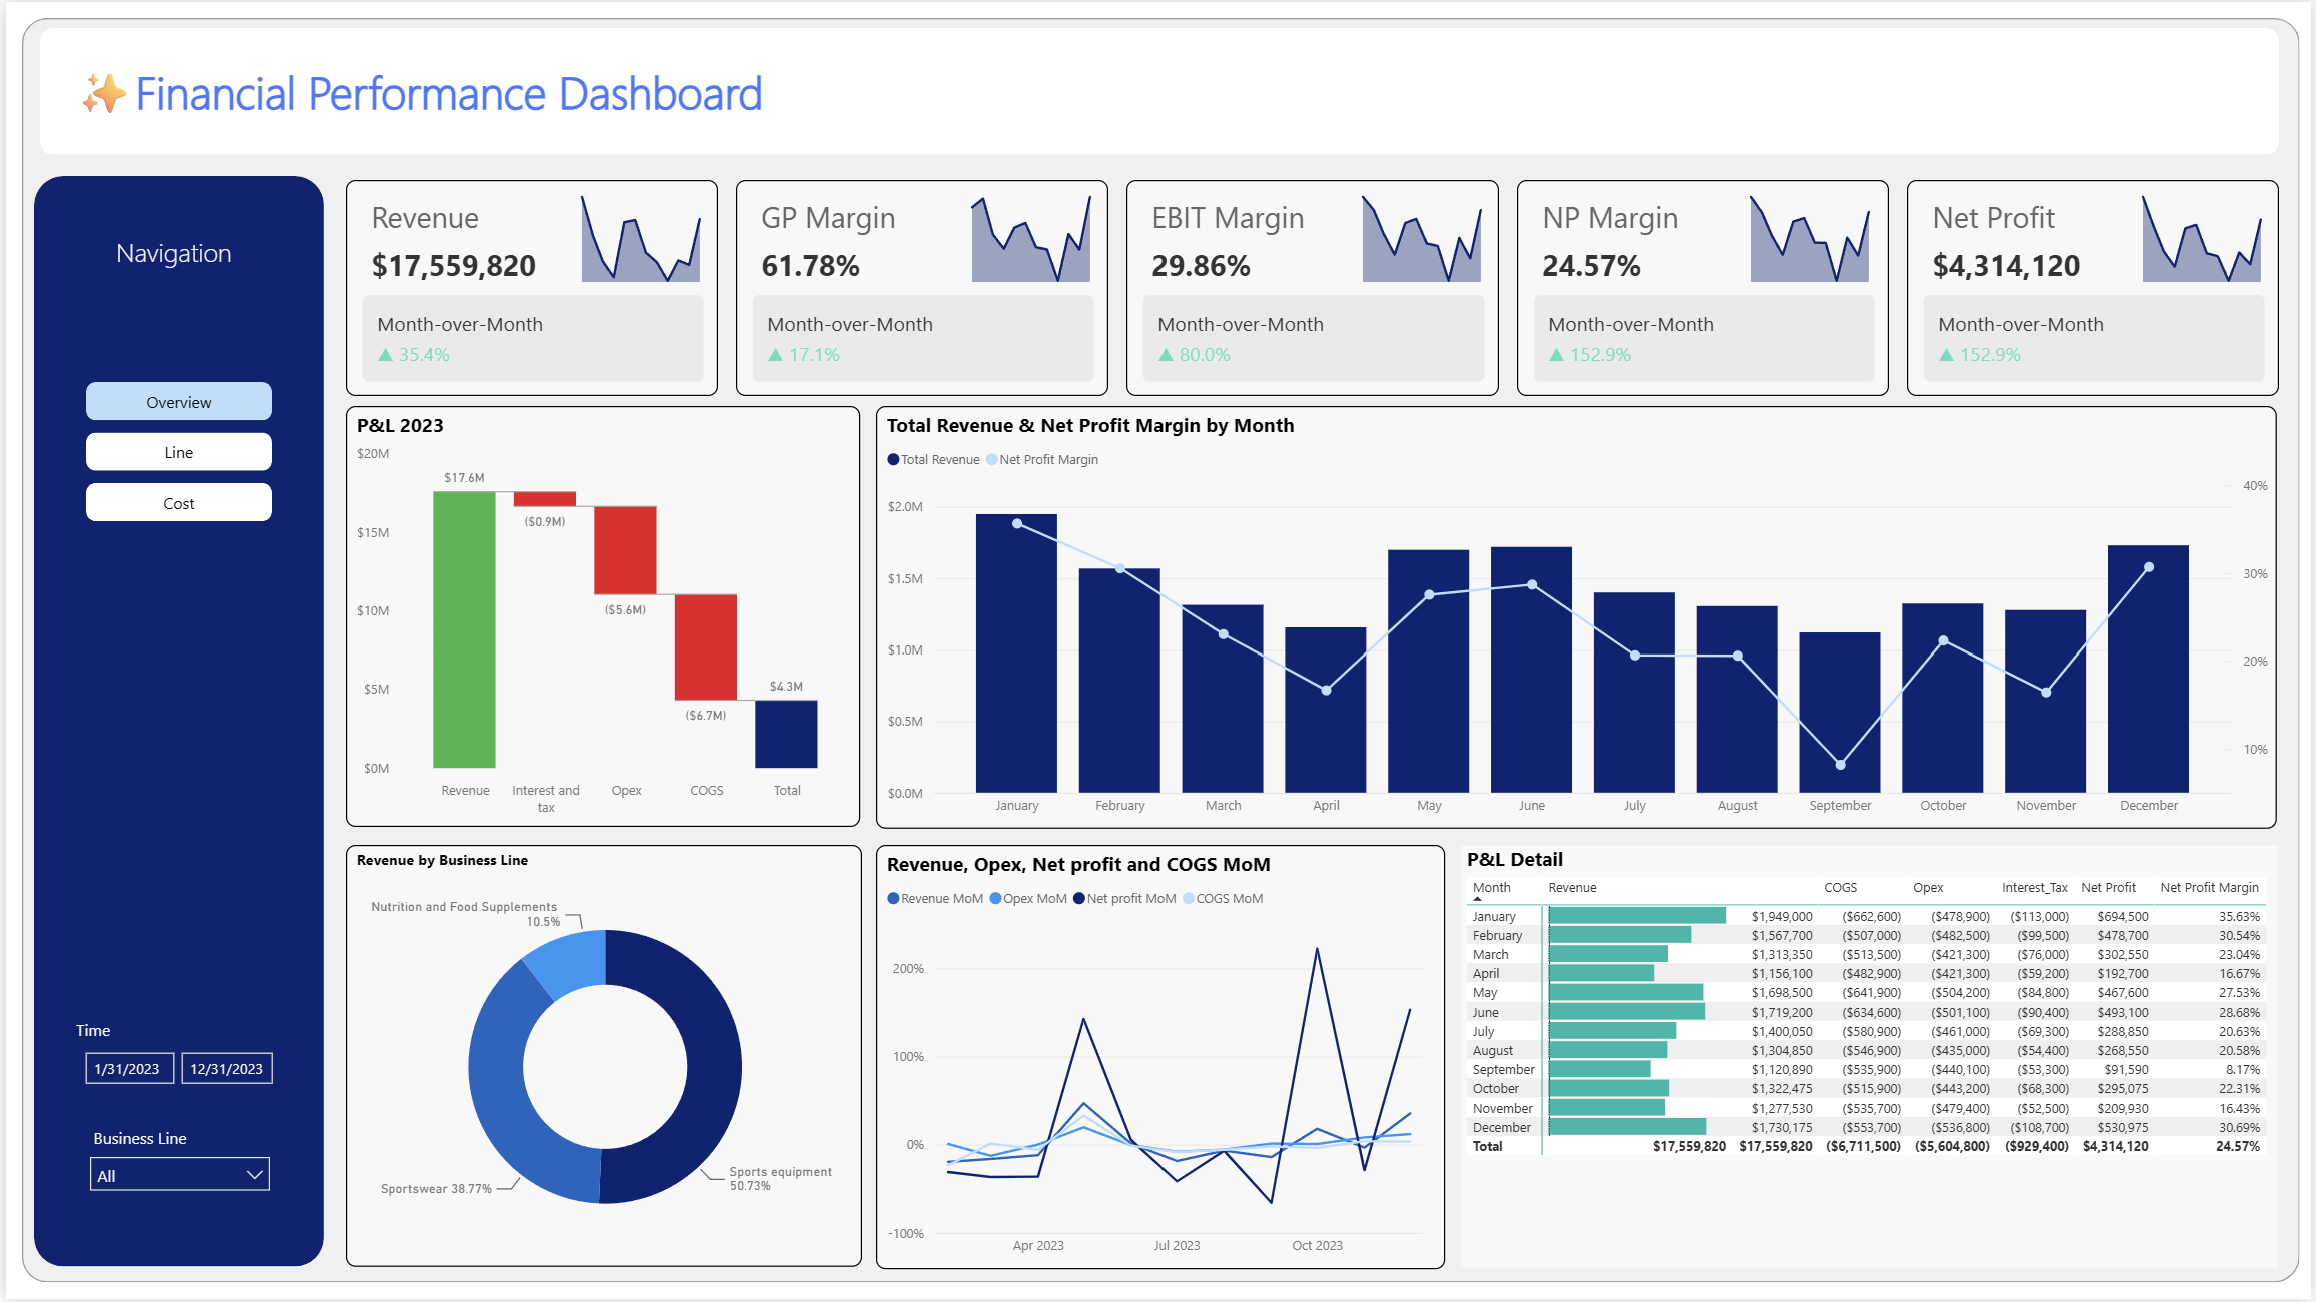

The dashboard page shown, as its layout file describes it:
{"tool":"powerbi","page":{"name":"Overview","canvas":[1920,1080],"ordinal":0},"visuals":[{"type":"cardVisual","fields":{"Data":["*Measure.Total Revenue"]},"box":[282.9,148.9,310,180],"z":0,"group":"g1"},{"type":"shape","box":[72.7,169.3,143.6,27.9],"z":0},{"type":"shape","box":[12.8,14,1897.2,1052.8],"z":1000},{"type":"cardVisual","fields":{"Data":["*Measure.Net Profit"]},"box":[1582.5,148.9,310,180],"z":1000,"group":"g1"},{"type":"cardVisual","fields":{"Data":["*Measure.Gross Profit Margin"]},"box":[607.8,148.9,310,180],"z":2000,"group":"g1"},{"type":"shape","box":[72.7,220,143.6,29.3],"z":2000},{"type":"shape","box":[22.7,144.5,241.7,907.9],"z":3000,"group":"g3"},{"type":"cardVisual","fields":{"Data":["*Measure.EBIT Margin"]},"box":[932.7,148.9,310,180],"z":3000,"group":"g1"},{"type":"shape","box":[27.9,22.1,1865,105.7],"z":4000},{"type":"cardVisual","fields":{"Data":["*Measure.Net Profit Margin"]},"box":[1257.6,148.9,310,180],"z":4000,"group":"g1"},{"type":"textbox","box":[85.7,187.2,115.7,42.9],"z":5000,"group":"g2"},{"type":"textbox","box":[51.4,43.6,625,62.9],"z":6000},{"type":"waterfallChart","title":"P&L 2023","fields":{"Category":["Group.Group"],"Y":["Sum(Fact.Amount)"]},"box":[282.9,337.1,428.6,350],"z":7000},{"type":"group","id":"g1","title":"Group 2","box":[282.9,148.9,1609.6,180],"z":8000},{"type":"lineChart","title":"Revenue, Opex, Net profit and COGS MoM ","fields":{"Category":["Calendar.StartOfMonth"],"Y":["*Measure.Revenue MoM","*Measure.Opex MoM","*Measure.Net profit MoM","*Measure.COGS MoM"]},"box":[725,701.7,473.3,353.3],"z":9000},{"type":"donutChart","title":"Revenue by Business Line","fields":{"Category":["Business Line.Business Line"],"Y":["*Measure.Total Revenue"]},"box":[283.3,701.7,430,351.7],"z":10000},{"type":"lineClusteredColumnComboChart","title":"Total Revenue & Net Profit Margin by Month","fields":{"Category":["Calendar.StartOfMonth.Variation.Date Hierarchy.Month"],"Y":["*Measure.Total Revenue"],"Y2":["*Measure.Net Profit Margin"]},"box":[725,336.7,1166.7,351.7],"z":11000},{"type":"lineChart","fields":{"Category":["dim_calendar.StartOfMonth"],"Y":["*Measure.Total Revenue"]},"box":[465.5,149.1,128.2,90],"z":12000},{"type":"lineChart","fields":{"Category":["dim_calendar.StartOfMonth"],"Y":["*Measure.Gross Profit Margin"]},"box":[790,149.1,128.2,90],"z":13000},{"type":"lineChart","fields":{"Category":["dim_calendar.StartOfMonth"],"Y":["*Measure.EBIT Margin"]},"box":[1114.5,149.1,128.2,90],"z":14000},{"type":"lineChart","fields":{"Category":["dim_calendar.StartOfMonth"],"Y":["*Measure.Net Profit Margin"]},"box":[1439.1,149.1,128.2,90],"z":15000},{"type":"lineChart","fields":{"Category":["dim_calendar.StartOfMonth"],"Y":["*Measure.Net Profit"]},"box":[1764.5,149.1,128.2,90],"z":16000},{"type":"pivotTable","title":"P&L Detail ","fields":{"Rows":["dim_calendar.Date.Variation.Date Hierarchy.Month"],"Values":["*Measure.Total Revenue","*Measure.Total Revenue_1","*Measure.Total COGS","*Measure.Total Opex","*Measure.Total Interest_Tax","*Measure.Net Profit","*Measure.Net Profit Margin"]},"box":[1212.2,702.2,681.1,352.2],"z":17000},{"type":"pageNavigator","box":[66.1,315.1,155,117.5],"z":18000,"group":"g2"},{"type":"slicer","title":"Time","fields":{"Values":["dim_calendar.Date"]},"box":[52.3,845.1,182.5,66.2],"z":19000,"group":"g2"},{"type":"slicer","fields":{"Values":["Business Line.Business Line"]},"box":[58.5,930.9,170,66.7],"z":20000,"group":"g2"},{"type":"group","id":"g2","title":"Group 1","box":[52.3,187.2,182.5,810.4],"z":20001,"group":"g3"},{"type":"group","id":"g3","title":"Group 3","box":[22.7,144.5,241.7,907.9],"z":20002}]}

Visuals, with their boxes in screenshot pixels (x1, y1, x2, y2), scaled from the page's 1920x1080 canvas onto the 2316x1302 screenshot:
cardVisual - *Measure.Total Revenue: crop(341, 180, 715, 397)
shape: crop(88, 204, 261, 238)
shape: crop(15, 17, 2304, 1286)
cardVisual - *Measure.Net Profit: crop(1909, 180, 2283, 397)
cardVisual - *Measure.Gross Profit Margin: crop(733, 180, 1107, 397)
shape: crop(88, 265, 261, 301)
shape: crop(27, 174, 319, 1269)
cardVisual - *Measure.EBIT Margin: crop(1125, 180, 1499, 397)
shape: crop(34, 27, 2283, 154)
cardVisual - *Measure.Net Profit Margin: crop(1517, 180, 1891, 397)
textbox: crop(103, 226, 243, 277)
textbox: crop(62, 53, 816, 128)
"P&L 2023" waterfallChart: crop(341, 406, 858, 828)
"Group 2" group: crop(341, 180, 2283, 397)
"Revenue, Opex, Net profit and COGS MoM " lineChart: crop(875, 846, 1445, 1272)
"Revenue by Business Line" donutChart: crop(342, 846, 860, 1270)
"Total Revenue & Net Profit Margin by Month" lineClusteredColumnComboChart: crop(875, 406, 2282, 830)
lineChart - dim_calendar.StartOfMonth x *Measure.Total Revenue: crop(562, 180, 716, 288)
lineChart - dim_calendar.StartOfMonth x *Measure.Gross Profit Margin: crop(953, 180, 1108, 288)
lineChart - dim_calendar.StartOfMonth x *Measure.EBIT Margin: crop(1344, 180, 1499, 288)
lineChart - dim_calendar.StartOfMonth x *Measure.Net Profit Margin: crop(1736, 180, 1891, 288)
lineChart - dim_calendar.StartOfMonth x *Measure.Net Profit: crop(2128, 180, 2283, 288)
"P&L Detail " pivotTable: crop(1462, 847, 2284, 1271)
pageNavigator: crop(80, 380, 267, 522)
"Time" slicer: crop(63, 1019, 283, 1099)
slicer - Business Line.Business Line: crop(71, 1122, 276, 1203)
"Group 1" group: crop(63, 226, 283, 1203)
"Group 3" group: crop(27, 174, 319, 1269)
